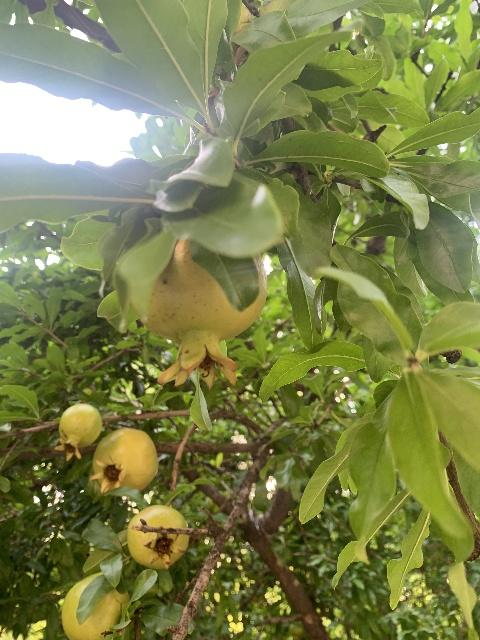mid-growth: (132, 239, 268, 390), (87, 427, 158, 496), (61, 572, 131, 640), (126, 504, 190, 569), (54, 402, 102, 460)
